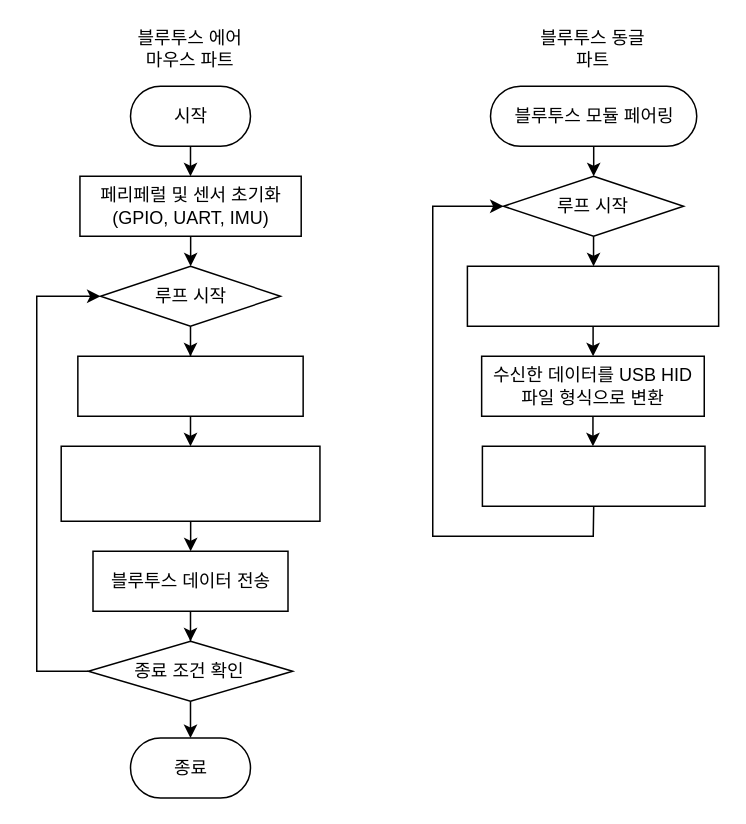
This 746x824 diagram has some shape labels left out. Each missing label, with the centre of its shape:
"USB HID 데이터 전송" goes at [593,475].
"데이터 읽기 (IMU, 버튼, 마우스 휠 등)" goes at [189,385].
"데이터 처리 (IMU 데이터, 각 버튼 기능, 마우스 휠 등)" goes at [190,483].
"블루투스 데이터 수신" goes at [592,295].
